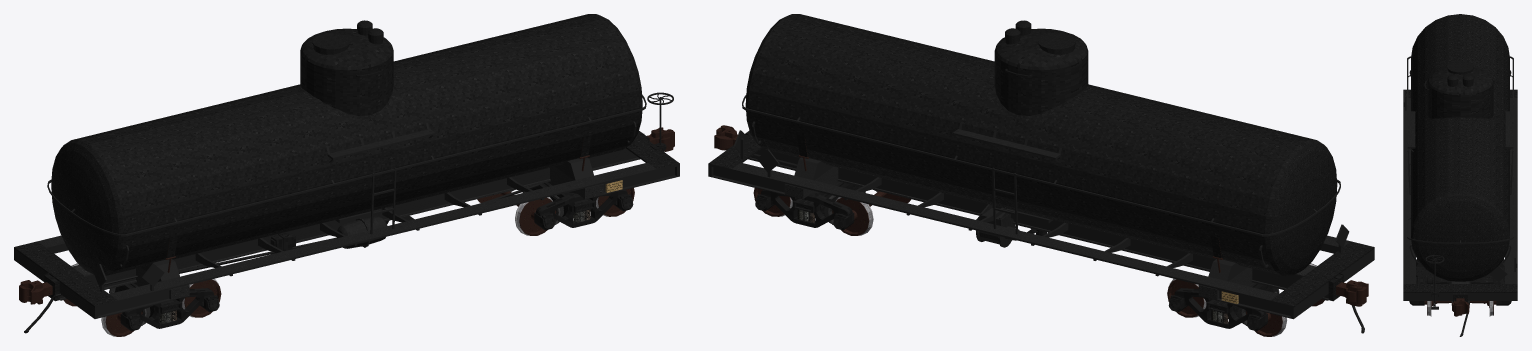
The model's file is kamx_t.obj.
The picture shows the model from 3 angles, left to right: view 1: azimuth 30°, elevation 25°; view 2: azimuth 150°, elevation 25°; view 3: azimuth 270°, elevation 25°; orthographic projection. The views are drawn at different scales.
Parts seen in each view (by area): view 1: TankEndB, FRAME_Coupler~03, Dome, TankLad~11, BOGEY_REAR_Cube.027, BOGEY_FRONT_Cube.037, BOGEY_REAR_WHEEL_2_Cylinder.011, AirRese~06, Brake_R~05, BOGEY_FRONT_WHEEL_1_Cylinder.018, BOGEY_FRONT_WHEEL_2_Cylinder.016, Placard~12 (+1 smaller); view 2: TankEndB, FRAME_Coupler~03, Dome, TankLad~11, BOGEY_REAR_Cube.027, BOGEY_FRONT_Cube.037, BOGEY_REAR_WHEEL_2_Cylinder.011, Placard~12, BrakeCy~04, BOGEY_FRONT_WHEEL_1_Cylinder.018, BOGEY_FRONT_WHEEL_2_Cylinder.016, BACK_COUPLER_Cube.010; view 3: TankEndB, FRAME_Coupler~03, Dome, TankLad~11, Placard~12, BOGEY_REAR_WHEEL_1_Cylinder.014, BOGEY_REAR_FRAME_Cube.019, BrakeStaff.001_BrakeStaff.004, FRONT_COUPLER_Cube.000, BOGEY_REAR_BEARINGS_Cube.020, BACK_COUPLER_KNUCLE.001_Cylinder.001.
Boxes of the visible parts, bbox=[...] form: TankEndB: bbox=[51, 14, 642, 275]; FRAME_Coupler~03: bbox=[14, 131, 679, 318]; Dome: bbox=[300, 20, 393, 115]; TankLad~11: bbox=[47, 94, 646, 267]; BOGEY_REAR_Cube.027: bbox=[536, 190, 627, 227]; BOGEY_FRONT_Cube.037: bbox=[71, 263, 213, 328]; BOGEY_REAR_WHEEL_2_Cylinder.011: bbox=[477, 191, 556, 235]; AirRese~06: bbox=[336, 216, 387, 248]; Brake_R~05: bbox=[179, 183, 541, 273]; BOGEY_FRONT_WHEEL_1_Cylinder.018: bbox=[182, 278, 221, 317]; BOGEY_FRONT_WHEEL_2_Cylinder.016: bbox=[63, 263, 142, 336]; Placard~12: bbox=[93, 263, 164, 291]; TankEndB: bbox=[745, 14, 1337, 275]; FRAME_Coupler~03: bbox=[708, 130, 1374, 319]; Dome: bbox=[994, 20, 1088, 115]; TankLad~11: bbox=[742, 95, 1340, 267]; BOGEY_REAR_Cube.027: bbox=[761, 190, 852, 227]; BOGEY_FRONT_Cube.037: bbox=[1174, 263, 1316, 328]; BOGEY_REAR_WHEEL_2_Cylinder.011: bbox=[832, 191, 911, 235]; Placard~12: bbox=[733, 130, 1349, 252]; BrakeCy~04: bbox=[976, 204, 1019, 247]; BOGEY_FRONT_WHEEL_1_Cylinder.018: bbox=[1167, 278, 1206, 317]; BOGEY_FRONT_WHEEL_2_Cylinder.016: bbox=[1246, 263, 1324, 336]; BACK_COUPLER_Cube.010: bbox=[1336, 280, 1368, 306]; TankEndB: bbox=[1411, 14, 1509, 281]; FRAME_Coupler~03: bbox=[1403, 89, 1517, 305]; Dome: bbox=[1424, 61, 1496, 118]; TankLad~11: bbox=[1407, 56, 1513, 263]; Placard~12: bbox=[1403, 90, 1517, 285]; BOGEY_REAR_WHEEL_1_Cylinder.014: bbox=[1424, 301, 1496, 316]; BOGEY_REAR_FRAME_Cube.019: bbox=[1416, 277, 1504, 283]; BrakeStaff.001_BrakeStaff.004: bbox=[1425, 255, 1444, 309]; FRONT_COUPLER_Cube.000: bbox=[1452, 298, 1469, 316]; BOGEY_REAR_BEARINGS_Cube.020: bbox=[1410, 275, 1510, 305]; BACK_COUPLER_KNUCLE.001_Cylinder.001: bbox=[1454, 304, 1463, 315].
Bounding box in the file's own units: 12.81 × 4.32 × 2.76.
